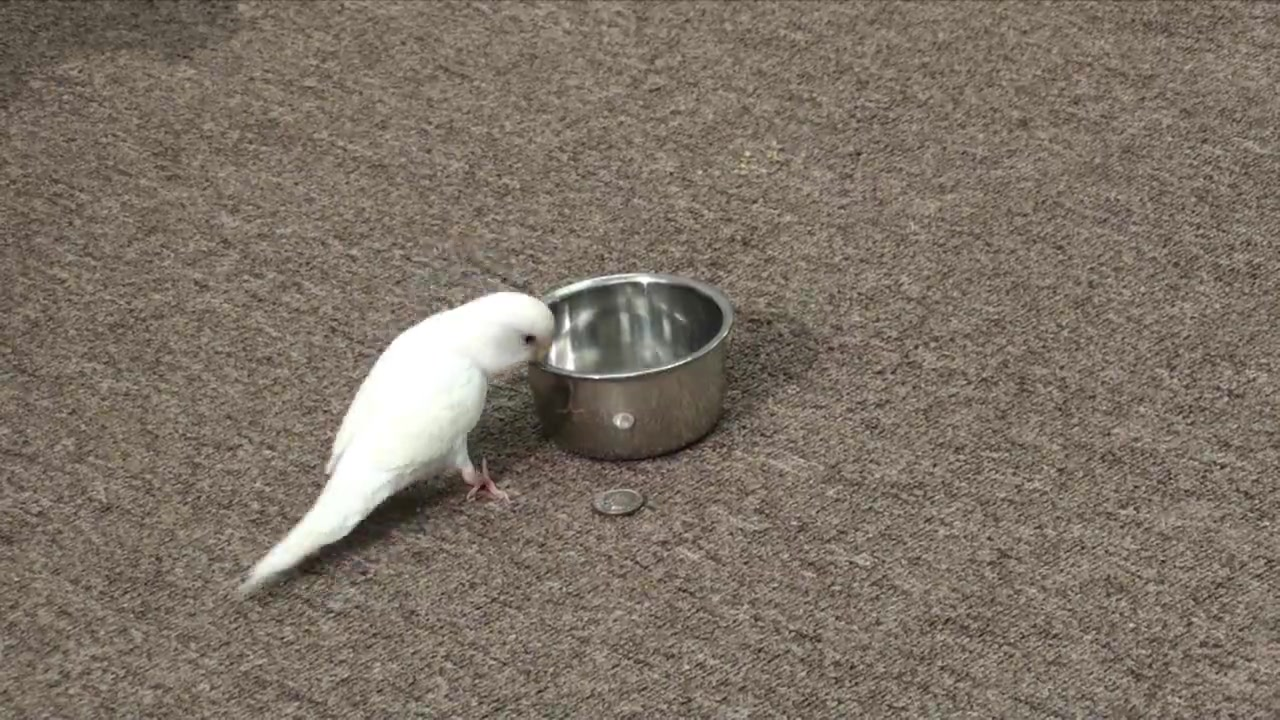bird: (242, 292, 557, 599)
